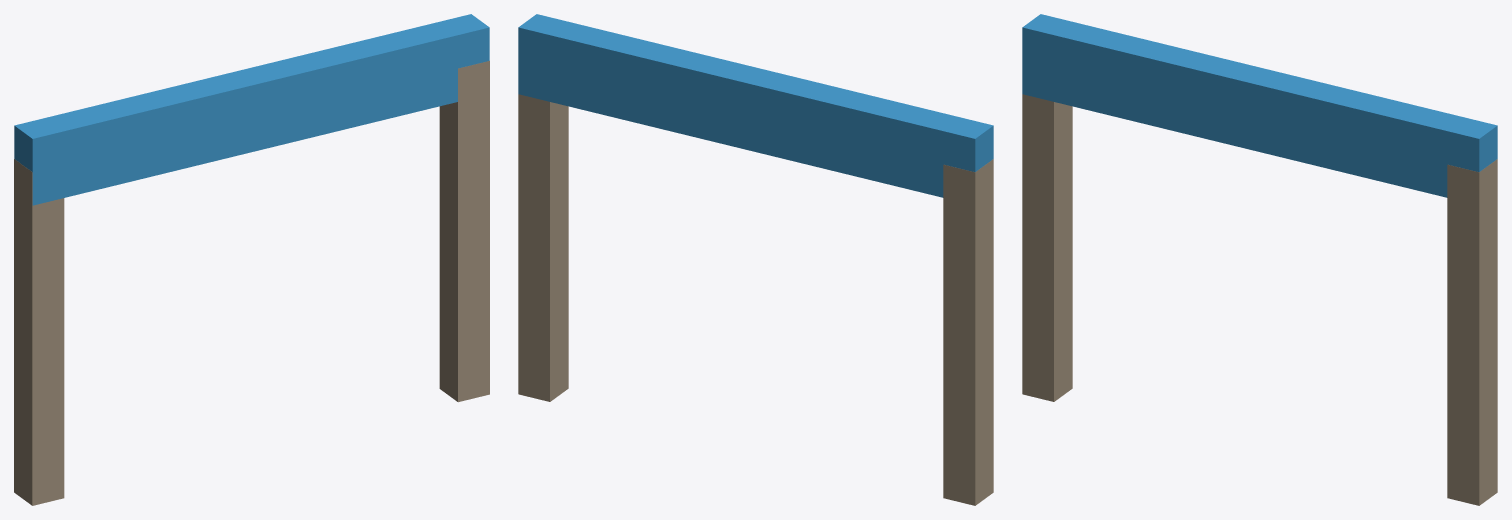
File: stock-car-oval-speedway-entry-gate-c72c86c6__16937.glb
3 renders of one model, left to right at view 1: azimuth 30°, elevation 25°; view 2: azimuth 150°, elevation 25°; view 3: azimuth 330°, elevation 25°, orthographic.
Visible parts, largest first — view 1: entry-gate; view 2: entry-gate; view 3: entry-gate.
Part boxes in pixels (<box>): entry-gate: <box>14,14,489,505</box>; entry-gate: <box>518,14,993,505</box>; entry-gate: <box>1022,14,1497,505</box>.
Bounding box in the file's own units: 4.3 × 3.3 × 0.3025.
